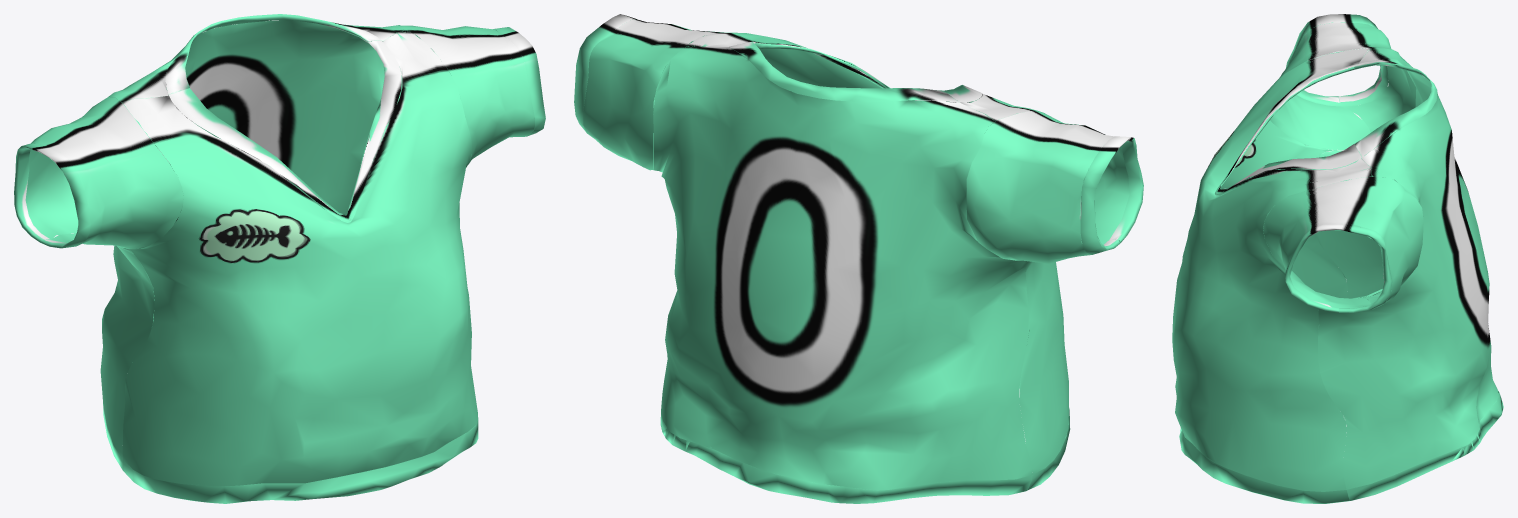
The model's file is Soccer-Mint-Fishy.glb.
3 renders of one model, left to right at view 1: azimuth 30°, elevation 25°; view 2: azimuth 150°, elevation 25°; view 3: azimuth 270°, elevation 25°, orthographic. The views are drawn at different scales.
Visible parts, largest first — view 1: Soccer-Mint-Fishy; view 2: Soccer-Mint-Fishy; view 3: Soccer-Mint-Fishy.
Part boxes in pixels (<box>): Soccer-Mint-Fishy: <box>14,14,545,503</box>; Soccer-Mint-Fishy: <box>574,14,1143,503</box>; Soccer-Mint-Fishy: <box>1172,14,1503,503</box>.
Bounding box in the file's own units: 0.5124 × 0.3829 × 0.3312.
Materials: 1 (1 with a texture image).
